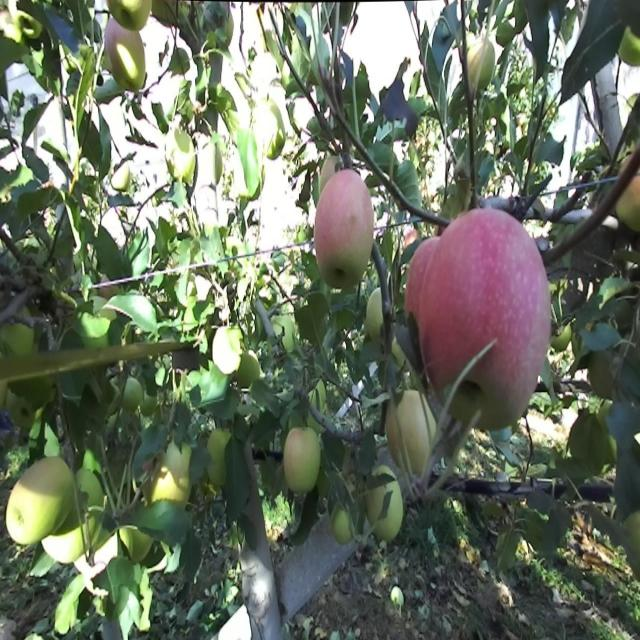apple: (312, 163, 377, 290), (384, 392, 435, 480), (28, 454, 73, 532), (104, 20, 148, 96), (284, 426, 322, 496), (80, 525, 119, 590), (368, 483, 406, 546), (148, 454, 192, 508), (8, 483, 43, 549), (204, 426, 232, 496), (164, 440, 193, 505), (212, 326, 243, 380), (616, 170, 640, 235), (56, 520, 85, 567), (112, 0, 152, 34), (168, 136, 196, 183), (364, 291, 387, 347), (148, 468, 178, 510), (332, 504, 355, 548), (208, 426, 232, 466), (0, 13, 24, 44), (404, 227, 422, 261)
